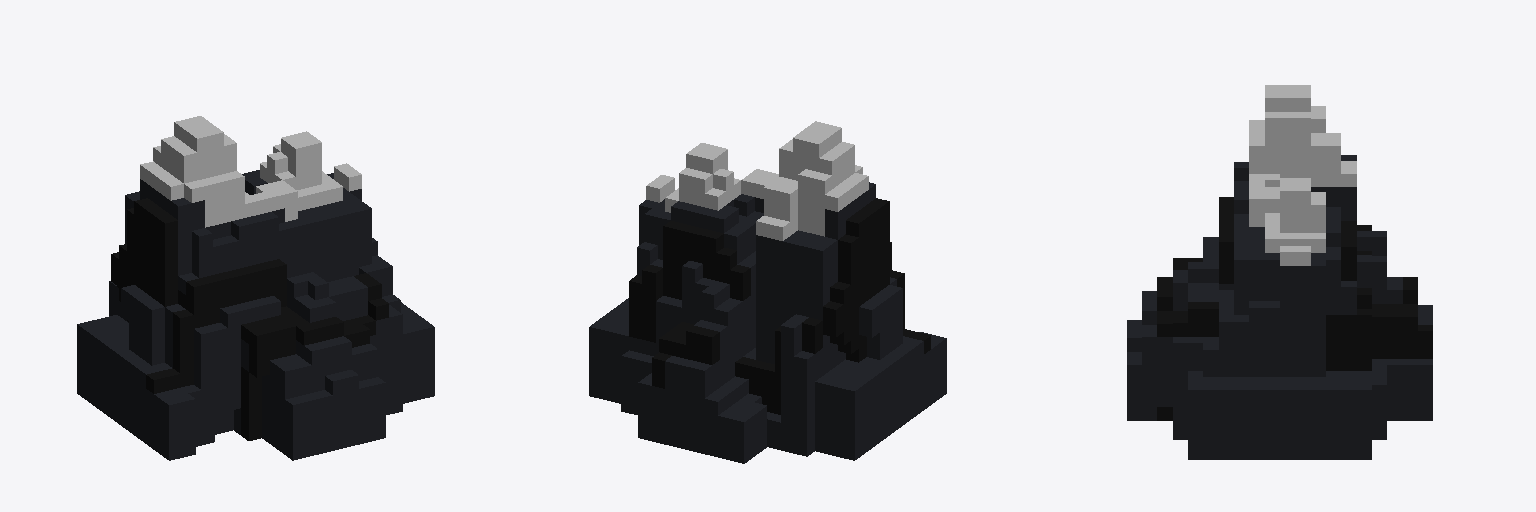
3 views of the same model, side by side, from view 1: azimuth 30°, elevation 25°; view 2: azimuth 150°, elevation 25°; view 3: azimuth 270°, elevation 25° (orthographic).
Size of the model in its own units: 40 by 40 by 40.
1 materials, 1 textured.